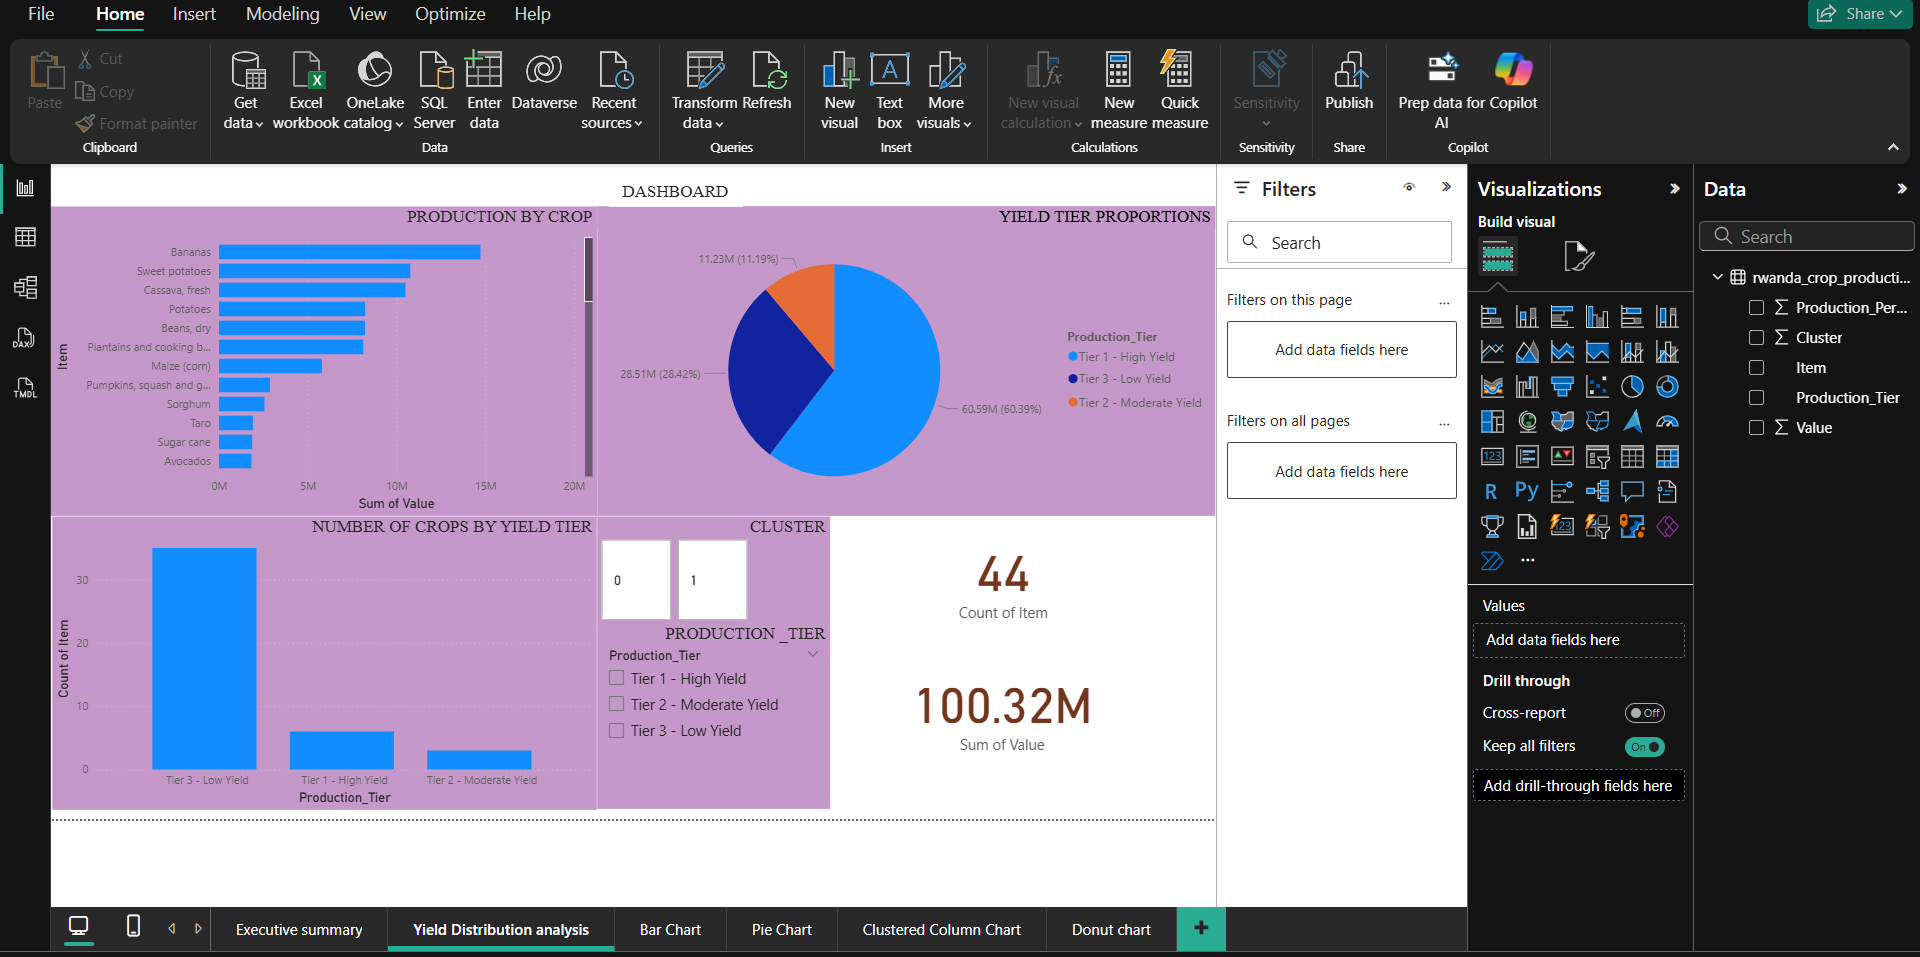

Layout of this report page (visuals, bound fields, positions):
{"tool":"powerbi","page":{"name":"Yield Distribution analysis","canvas":[1280,720],"ordinal":1},"visuals":[{"type":"slicer","title":"PRODUCTION _TIER","fields":{"Values":["rwanda_crop_production_trends.Production_Tier"]},"box":[600,505.9,255.9,202.9],"z":0},{"type":"advancedSlicerVisual","title":"CLUSTER","fields":{"Values":["rwanda_crop_production_trends.Cluster"]},"box":[600,386.8,255.9,119.1],"z":1000},{"type":"clusteredBarChart","title":"PRODUCTION BY CROP","fields":{"Y":["Sum(rwanda_crop_production_trends.Value)"],"Category":["rwanda_crop_production_trends.Item"]},"box":[0,47.1,600,339.7],"z":2000},{"type":"pieChart","title":"YIELD TIER PROPORTIONS","fields":{"Category":["rwanda_crop_production_trends.Production_Tier"],"Y":["Sum(rwanda_crop_production_trends.Value)"]},"box":[600,47.1,679.4,339.7],"z":3000},{"type":"clusteredColumnChart","title":"NUMBER OF CROPS BY YIELD TIER","fields":{"Category":["rwanda_crop_production_trends.Production_Tier"],"Y":["CountNonNull(rwanda_crop_production_trends.Item)"]},"box":[1.5,386.8,598.5,322.1],"z":4000},{"type":"card","fields":{"Values":["Sum(rwanda_crop_production_trends.Value)"]},"box":[939.7,548.5,211.8,102.9],"z":5000},{"type":"card","fields":{"Values":["CountNonNull(rwanda_crop_production_trends.Item)"]},"box":[975,404.4,142.6,101.5],"z":6000},{"type":"textbox","box":[613.2,14.7,147.1,32.4],"z":7000}]}

Visuals, with their boxes on the page's 1280x720 design canvas (x1, y1, x2, y2). These are canvas units, not pixel positions in the 1920x957 screenshot, which may show the page scaled, cropped or inside an application window:
"PRODUCTION _TIER" slicer: pyautogui.locateOnScreen(600, 506, 856, 709)
"CLUSTER" advancedSlicerVisual: pyautogui.locateOnScreen(600, 387, 856, 506)
"PRODUCTION BY CROP" clusteredBarChart: pyautogui.locateOnScreen(0, 47, 600, 387)
"YIELD TIER PROPORTIONS" pieChart: pyautogui.locateOnScreen(600, 47, 1279, 387)
"NUMBER OF CROPS BY YIELD TIER" clusteredColumnChart: pyautogui.locateOnScreen(2, 387, 600, 709)
card - Sum(rwanda_crop_production_trends.Value): pyautogui.locateOnScreen(940, 548, 1152, 651)
card - CountNonNull(rwanda_crop_production_trends.Item): pyautogui.locateOnScreen(975, 404, 1118, 506)
textbox: pyautogui.locateOnScreen(613, 15, 760, 47)
